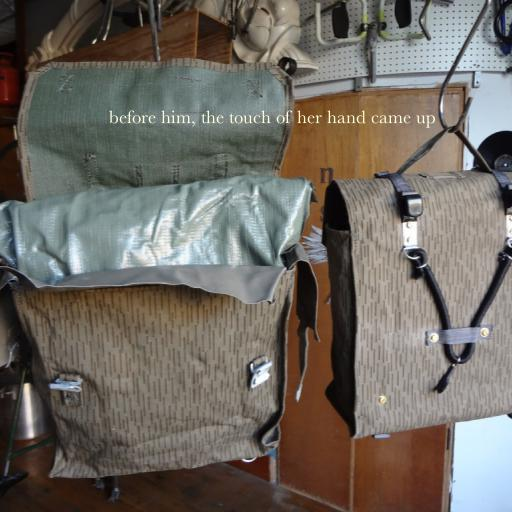Baskerville: (108, 110, 436, 128)
